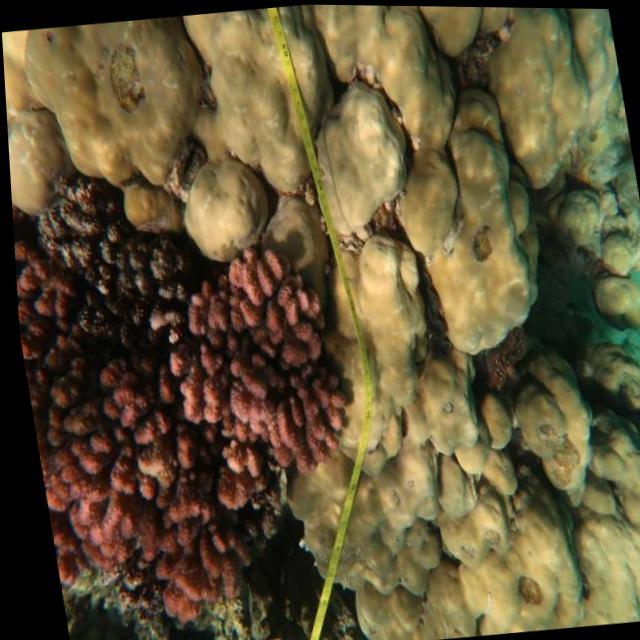Healthy Coral: (20, 346, 280, 636), (170, 236, 355, 490), (10, 208, 76, 365)
